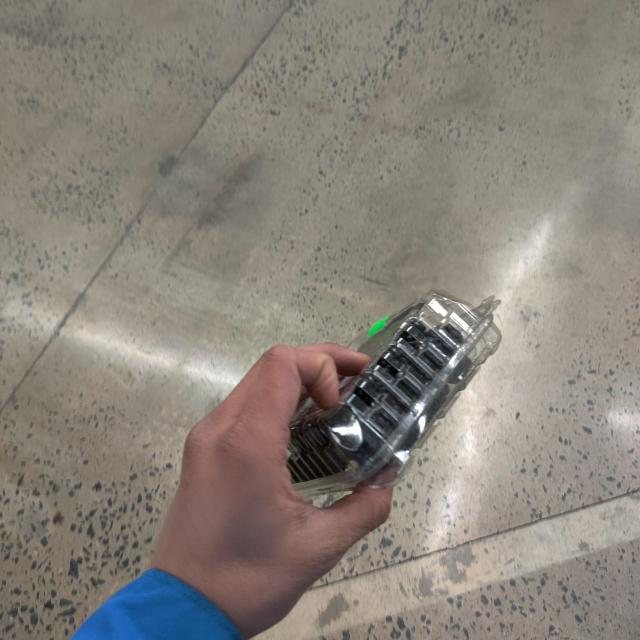Blackberries: (289, 290, 508, 510)
